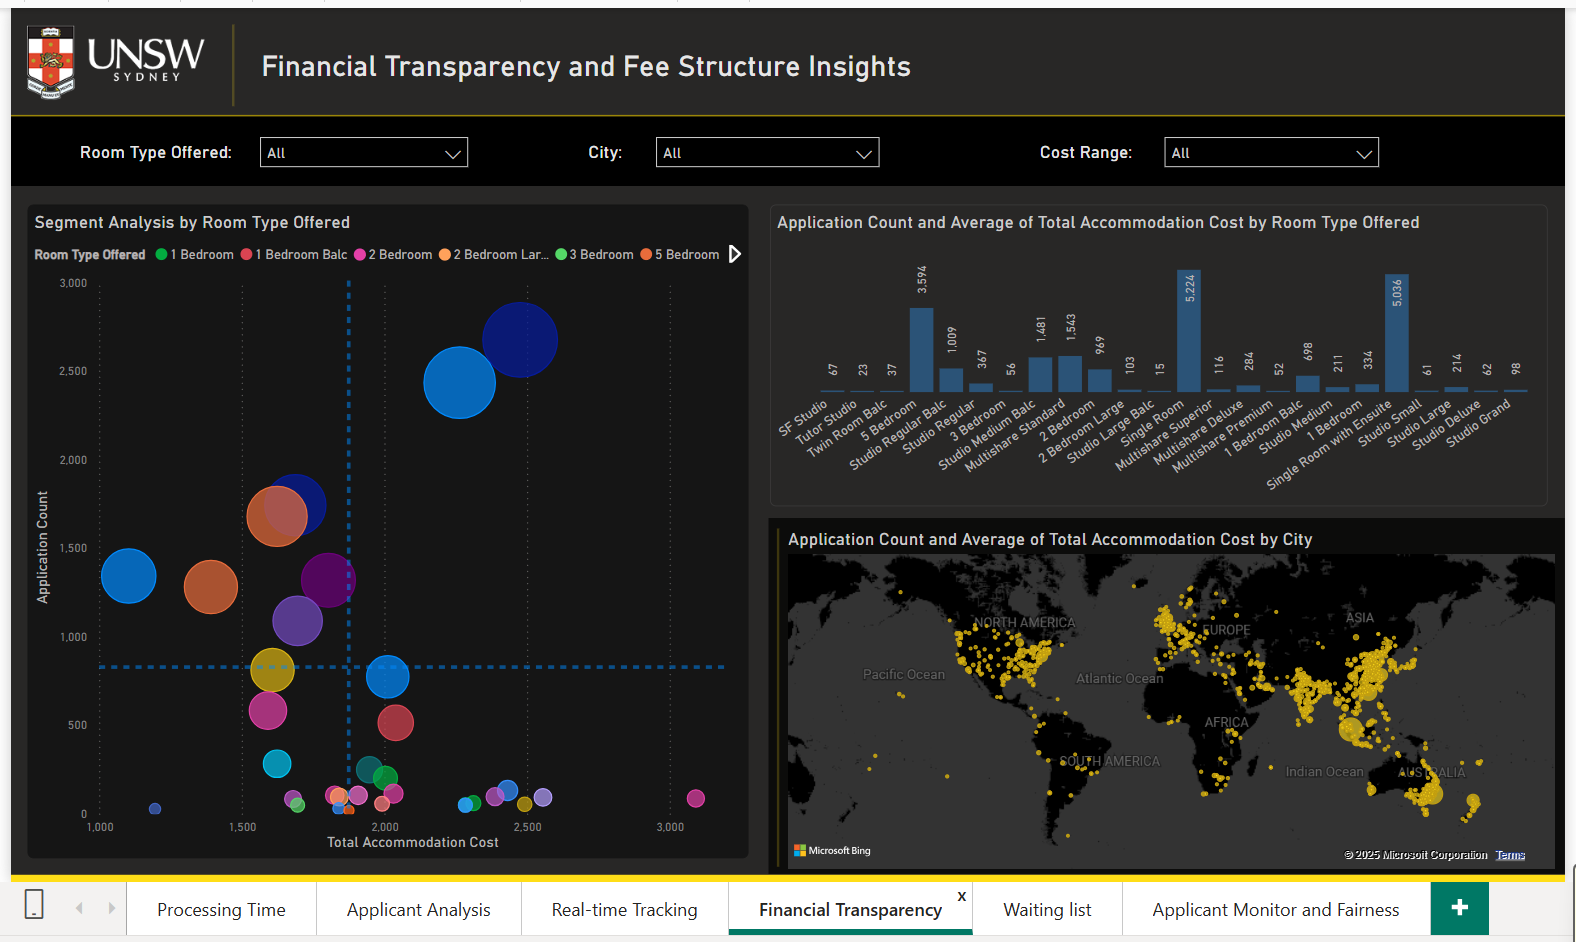

This screenshot's page, from the dashboard's own definition file:
{"tool":"powerbi","page":{"name":"Financial Transparency","canvas":[1280,720],"ordinal":3},"visuals":[{"type":"shape","box":[170.3,13.1,25.2,67.5],"z":0},{"type":"shape","box":[623.9,420.3,656.1,293.3],"z":1000},{"type":"shape","box":[206.1,13,591.2,67.3],"z":2000},{"type":"shape","box":[624.7,428.9,13.6,278.4],"z":3000},{"type":"slicer","fields":{"Values":["2025 T1 sandbox INFS.Room Type Offered"]},"box":[195.8,96.2,191.3,44.1],"z":4000},{"type":"slicer","fields":{"Values":["2025 T1 sandbox INFS.City"]},"box":[521.7,96.2,203.7,44.1],"z":5000},{"type":"slicer","fields":{"Values":["2025 T1 sandbox INFS.Cost Range"]},"box":[940.5,96.2,196.9,44.1],"z":6000},{"type":"shape","box":[56.6,96.2,139.2,44.1],"z":7000},{"type":"shape","box":[475.3,96.2,46.4,44.1],"z":8000},{"type":"shape","box":[847.7,96.2,92.8,44.1],"z":9000},{"type":"scatterChart","title":"Segment Analysis by Room Type Offered","fields":{"X":["2025 T1 sandbox INFS.Total Accommodation Cost"],"Y":["2025 T1 sandbox INFS.Application Count"],"Series":["2025 T1 sandbox INFS.Room Type Offered"],"Size":["2025 T1 sandbox INFS.Application Count"]},"box":[13.6,161.8,594.2,538.7],"z":10000},{"type":"columnChart","fields":{"Category":["2025 T1 sandbox INFS.Room Type Offered"],"Y":["2025 T1 sandbox INFS.Application Count"]},"box":[624.7,161.8,640.6,249],"z":11000},{"type":"map","fields":{"Category":["2025 T1 sandbox INFS.City"],"Size":["2025 T1 sandbox INFS.Application Count"]},"box":[624,420.1,652.5,292.9],"z":12000}]}

Visuals, with their boxes on the page's 1280x720 design canvas (x1, y1, x2, y2). These are canvas units, not pixel positions in the 1576x942 screenshot, which may show the page scaled, cropped or inside an application window:
shape: 170:13:196:81
shape: 624:420:1280:714
shape: 206:13:797:80
shape: 625:429:638:707
slicer - 2025 T1 sandbox INFS.Room Type Offered: 196:96:387:140
slicer - 2025 T1 sandbox INFS.City: 522:96:725:140
slicer - 2025 T1 sandbox INFS.Cost Range: 940:96:1137:140
shape: 57:96:196:140
shape: 475:96:522:140
shape: 848:96:940:140
"Segment Analysis by Room Type Offered" scatterChart: 14:162:608:700
columnChart - 2025 T1 sandbox INFS.Room Type Offered x 2025 T1 sandbox INFS.Application Count: 625:162:1265:411
map - 2025 T1 sandbox INFS.City x 2025 T1 sandbox INFS.Application Count: 624:420:1276:713
